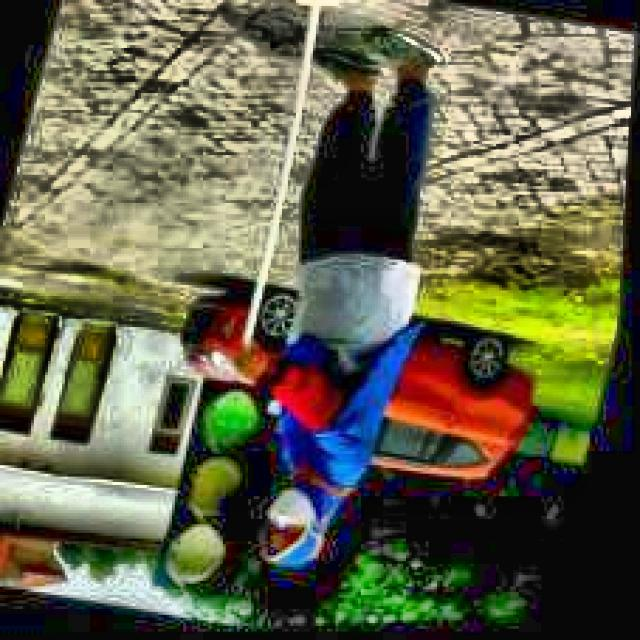green: (150, 373, 290, 608)
